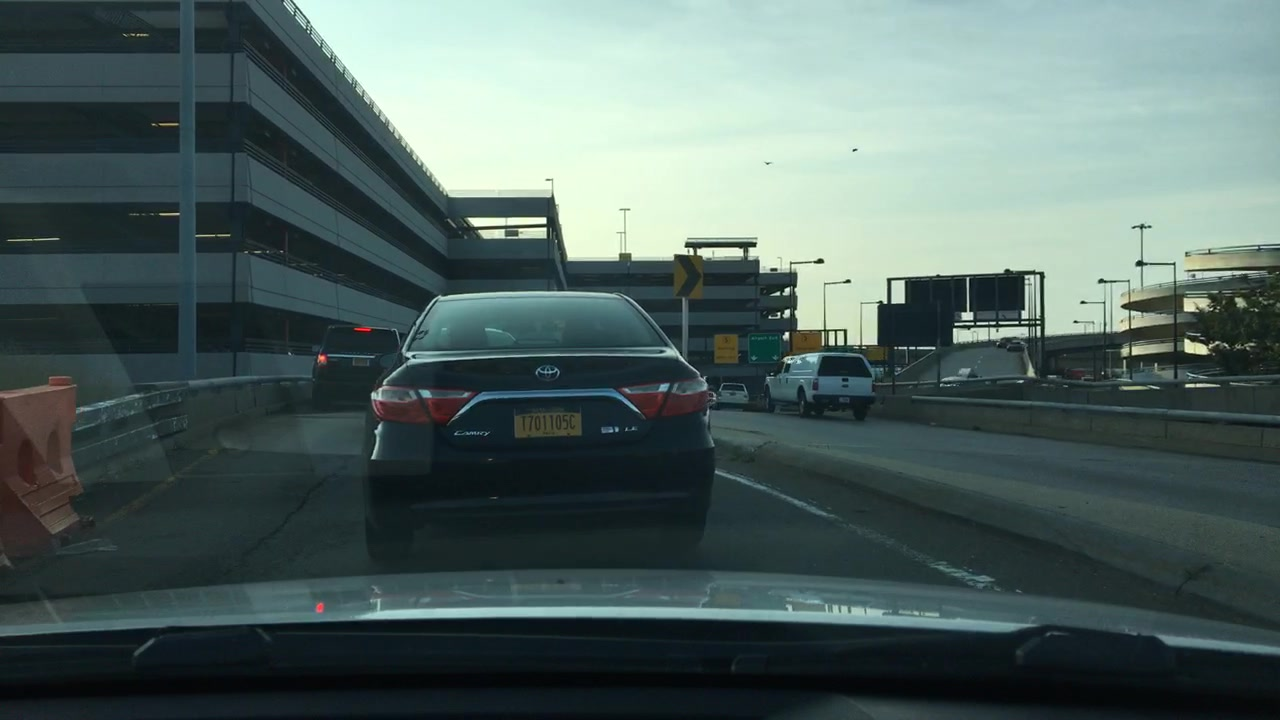licence: (509, 407, 588, 437)
